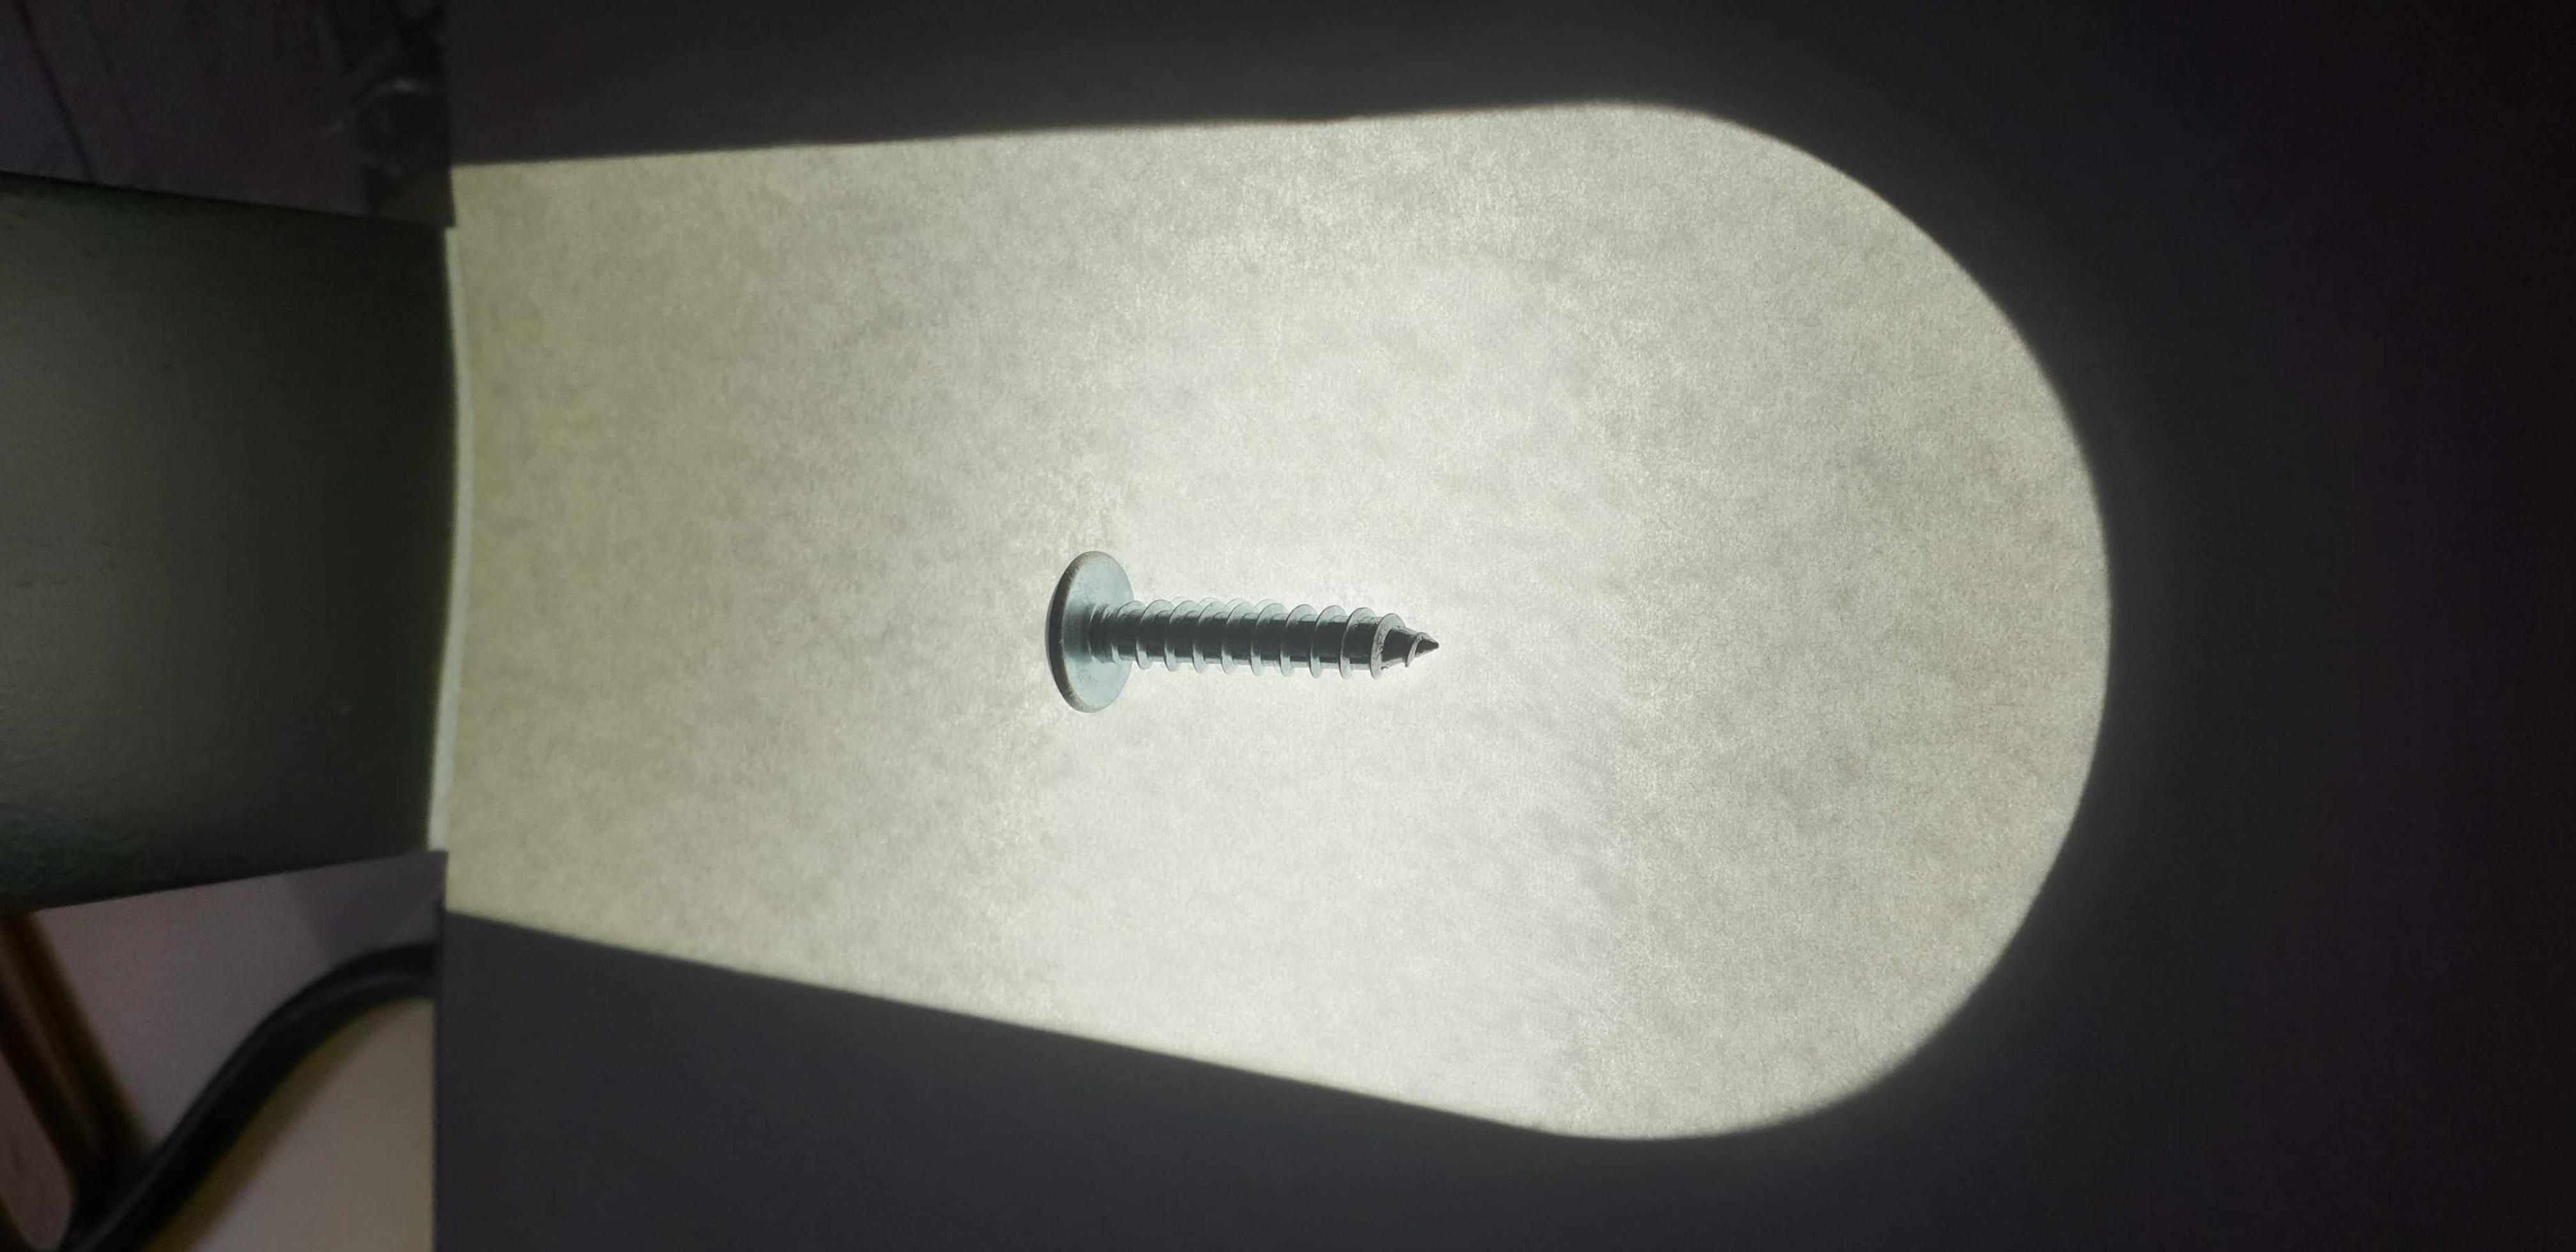S002: (1002, 493, 1493, 746)
